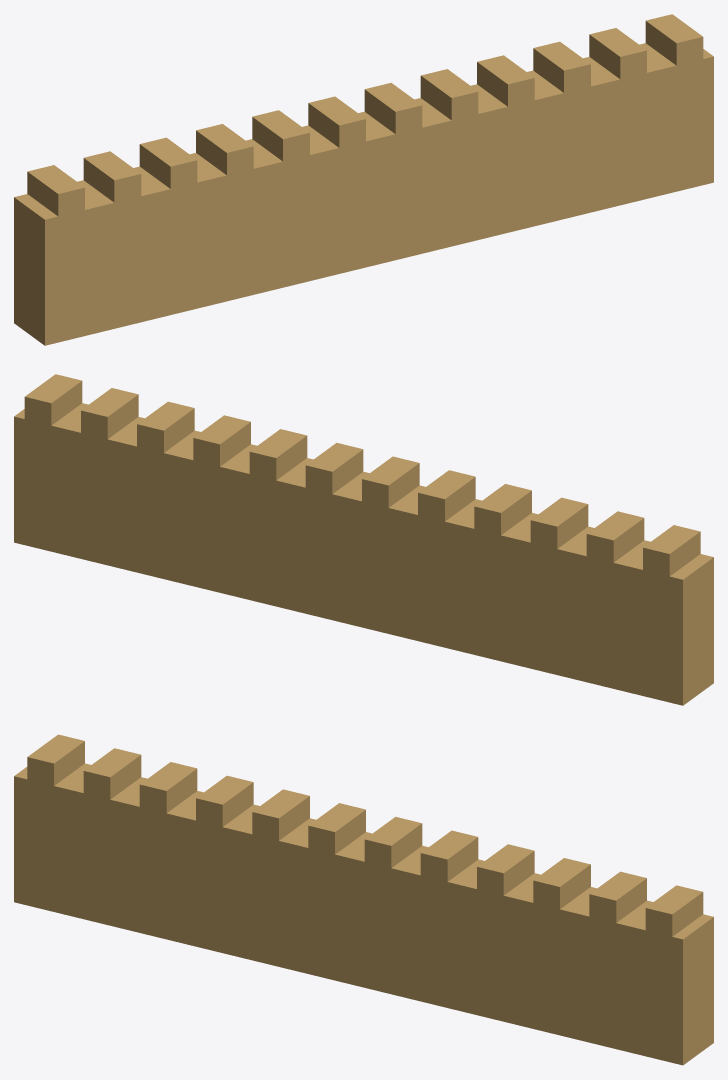
Rendered from city-wall.glb.
The picture shows the model from 3 angles, top to bottom: view 1: azimuth 30°, elevation 25°; view 2: azimuth 150°, elevation 25°; view 3: azimuth 330°, elevation 25°; orthographic projection.
Visible parts, largest first — view 1: city-wall; view 2: city-wall; view 3: city-wall.
Boxes of the visible parts, x1,y1,x2,y2 form: city-wall: (14, 14, 713, 345); city-wall: (14, 374, 713, 705); city-wall: (14, 734, 713, 1065).
Bounding box in the file's own units: 50 × 10.6 × 4.
